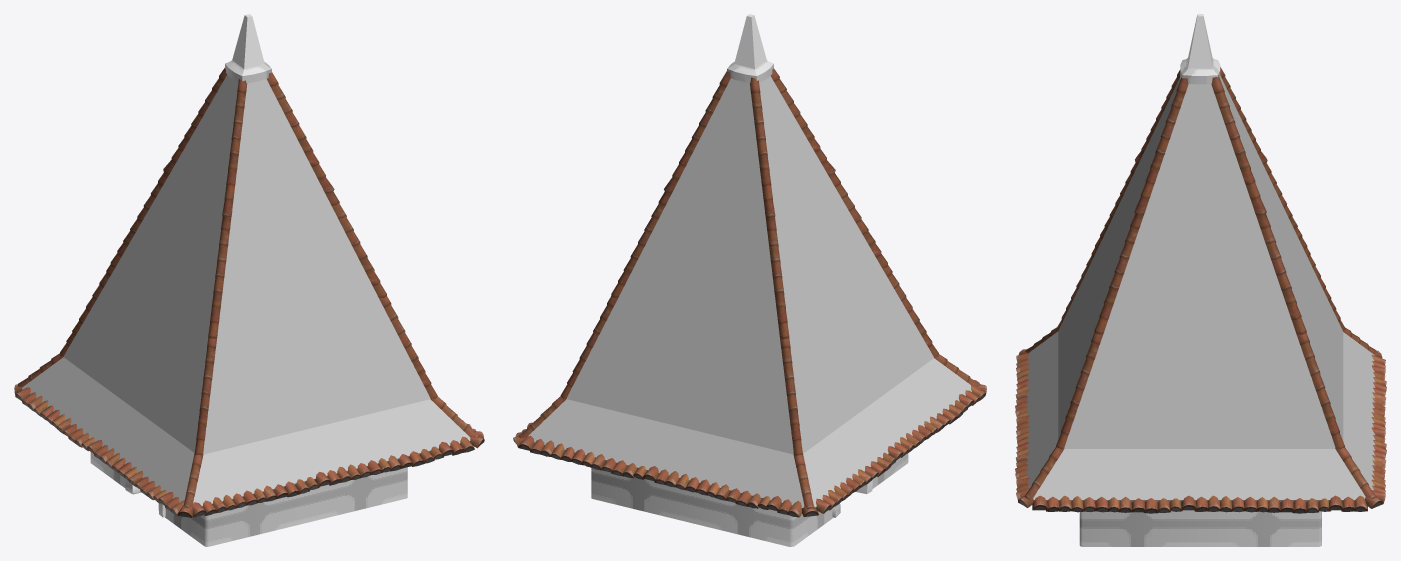
Rendered from SM_TowerE_Top_03.fbx.
The picture shows the model from 3 angles, left to right: view 1: azimuth 30°, elevation 25°; view 2: azimuth 150°, elevation 25°; view 3: azimuth 270°, elevation 25°; orthographic projection. The views are drawn at different scales.
Visible parts, largest first — view 1: SM_TowerE_Top_03_LOD0; view 2: SM_TowerE_Top_03_LOD0; view 3: SM_TowerE_Top_03_LOD0.
Boxes of the visible parts, box(x1,y1,x2,y2) form: SM_TowerE_Top_03_LOD0: box(14, 14, 484, 546); SM_TowerE_Top_03_LOD0: box(513, 14, 986, 546); SM_TowerE_Top_03_LOD0: box(1015, 14, 1386, 546).
Size of what is drawn, in the model's own units: 11.22 by 15.93 by 11.18.
